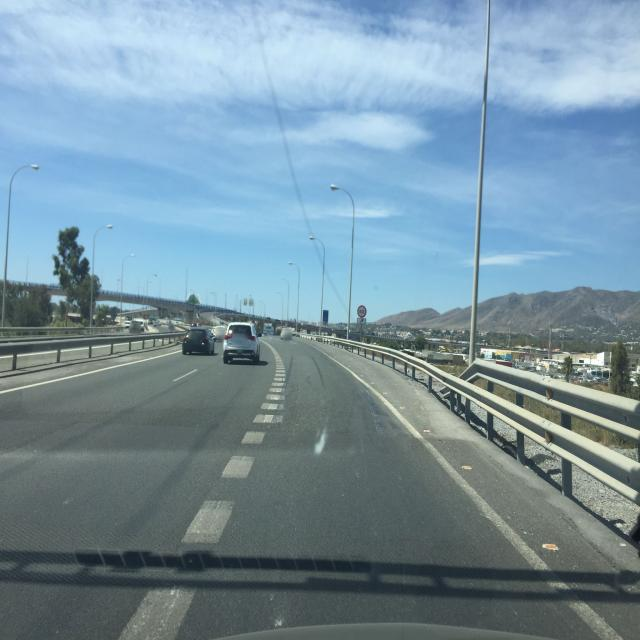car: (223, 322, 260, 364), (182, 326, 216, 356), (130, 319, 148, 333), (280, 328, 293, 340)
